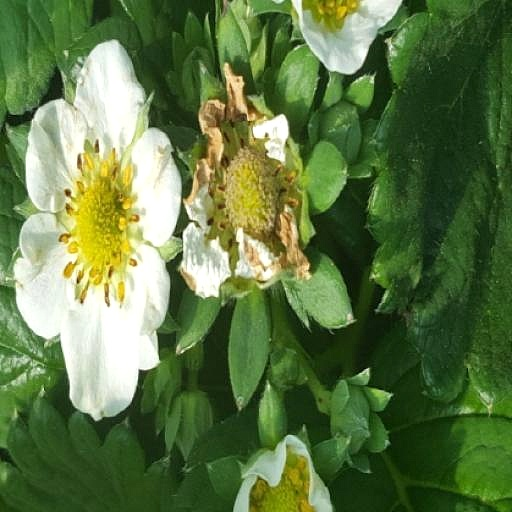Blossom Blight: (203, 246, 302, 398), (56, 204, 145, 373)
